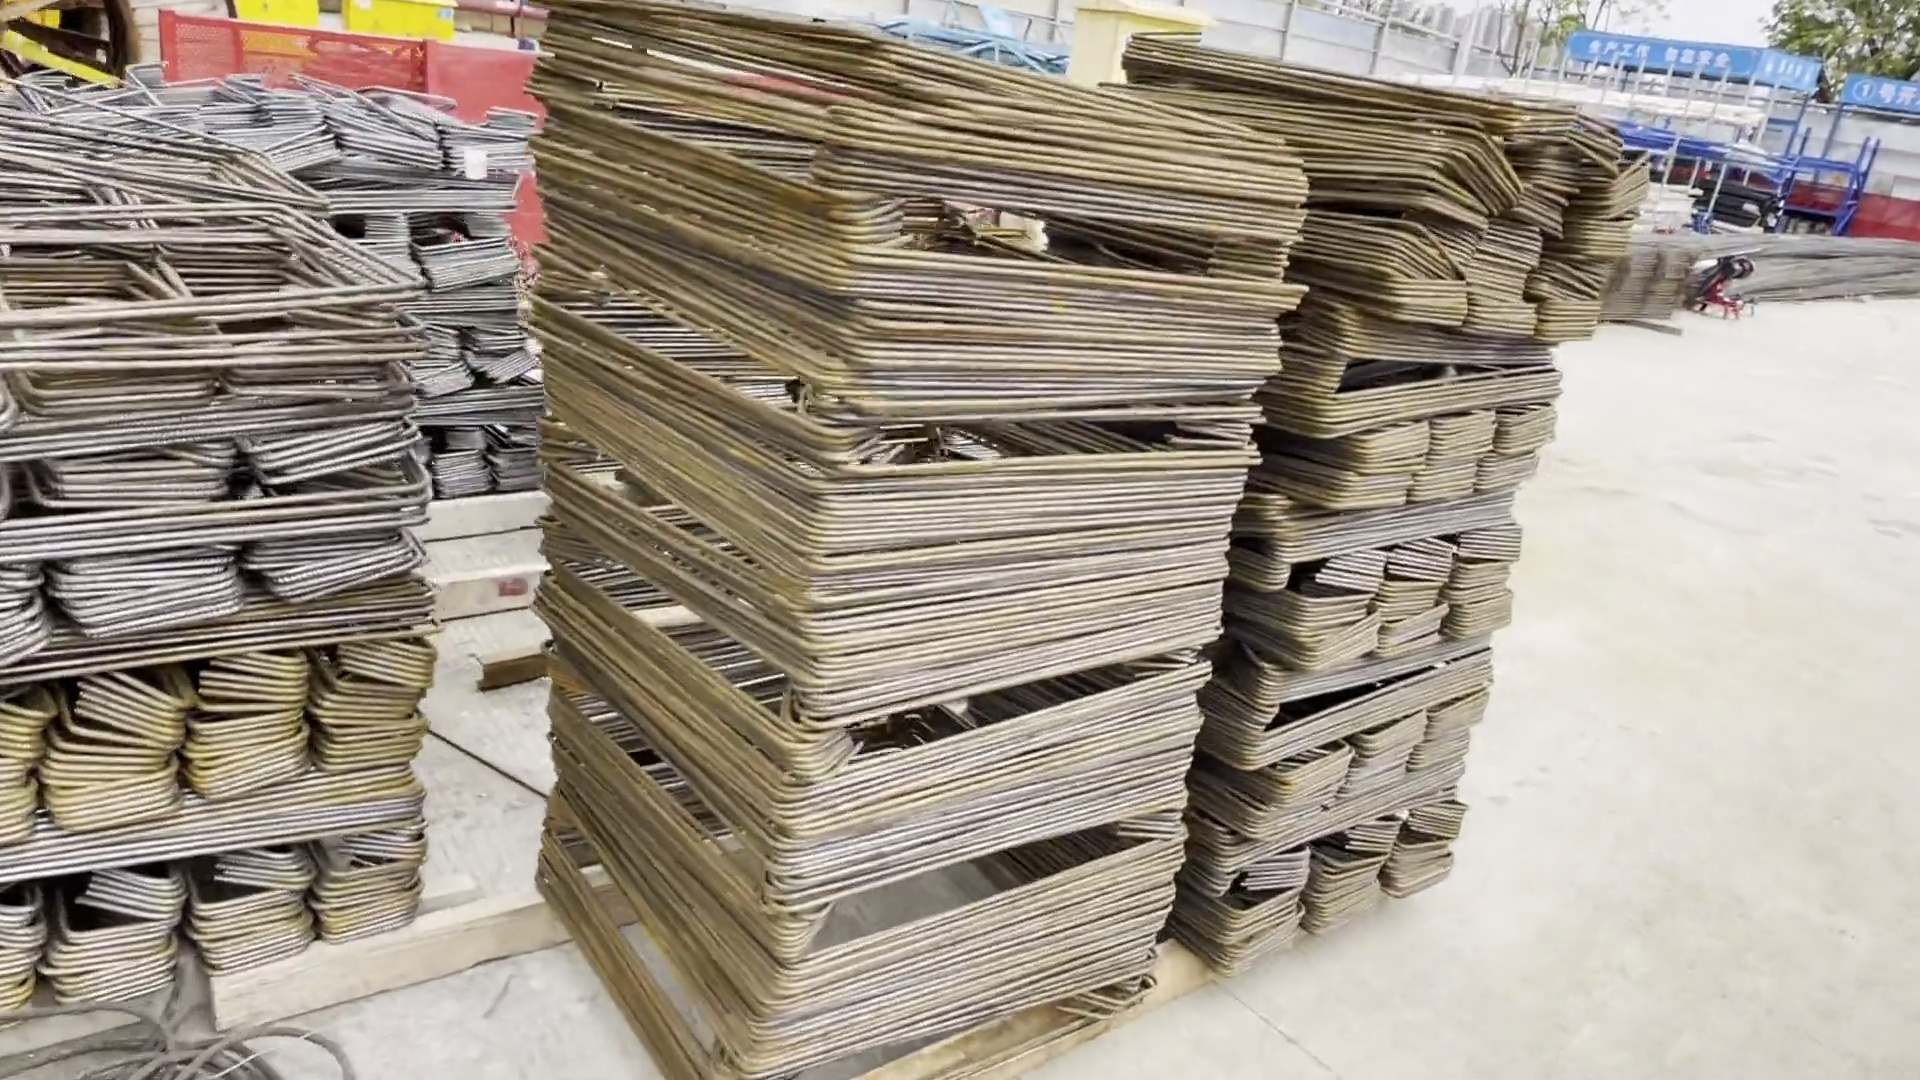ebox: (236, 1, 465, 40)
fence: (167, 22, 549, 248)
rebar: (1691, 225, 1920, 301)
slogan: (1569, 36, 1760, 80)
